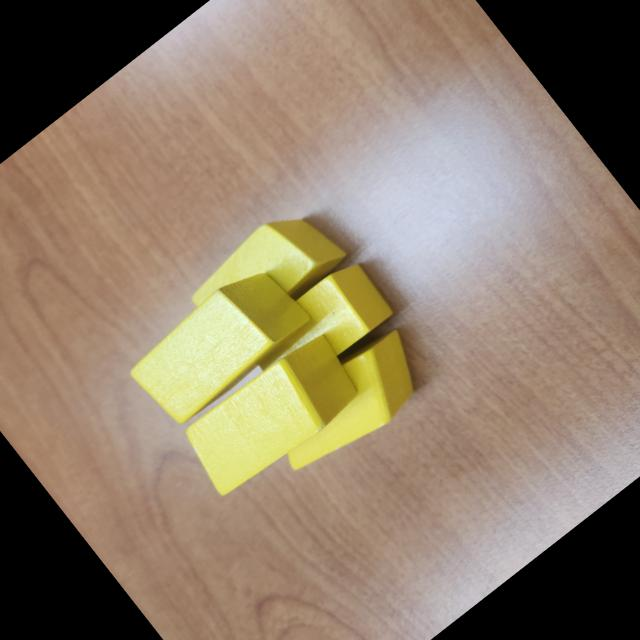yellow: (170, 324, 371, 508), (246, 306, 444, 490), (120, 251, 318, 433), (180, 192, 353, 352), (240, 254, 398, 400)
